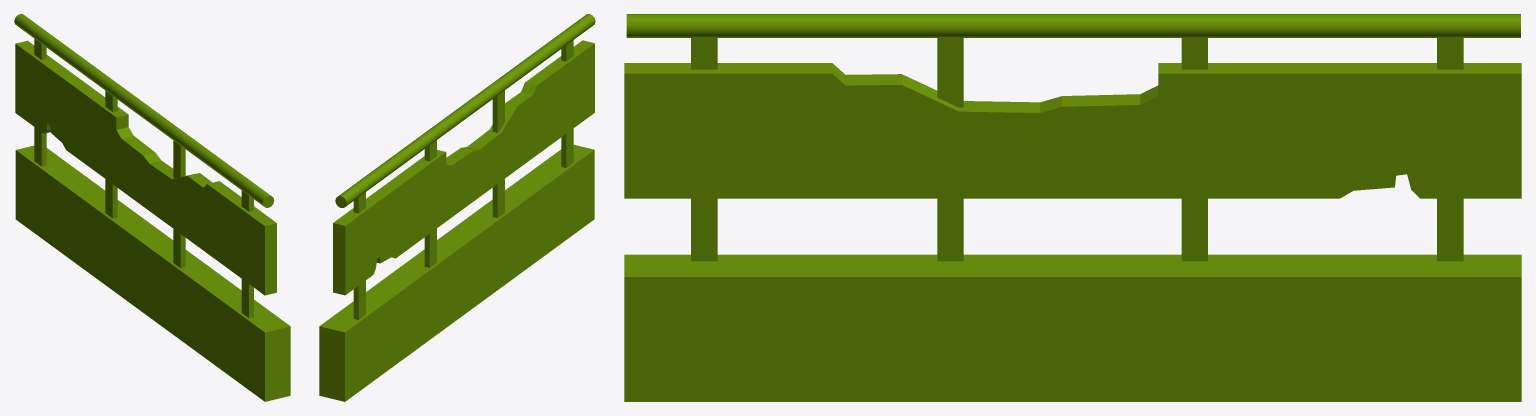
File: SM_Barriere2.fbx
3 views of the same model, side by side, from view 1: azimuth 30°, elevation 25°; view 2: azimuth 150°, elevation 25°; view 3: azimuth 270°, elevation 25° (orthographic). The views are drawn at different scales.
Parts seen in each view (by area): view 1: Barriere2; view 2: Barriere2; view 3: Barriere2.
Part boxes in pixels (x1,y1,x2,y2): Barriere2: (14,14,290,401); Barriere2: (319,14,595,401); Barriere2: (624,14,1521,401).
Size of the model in its own units: 9.45 by 67.87 by 150.
